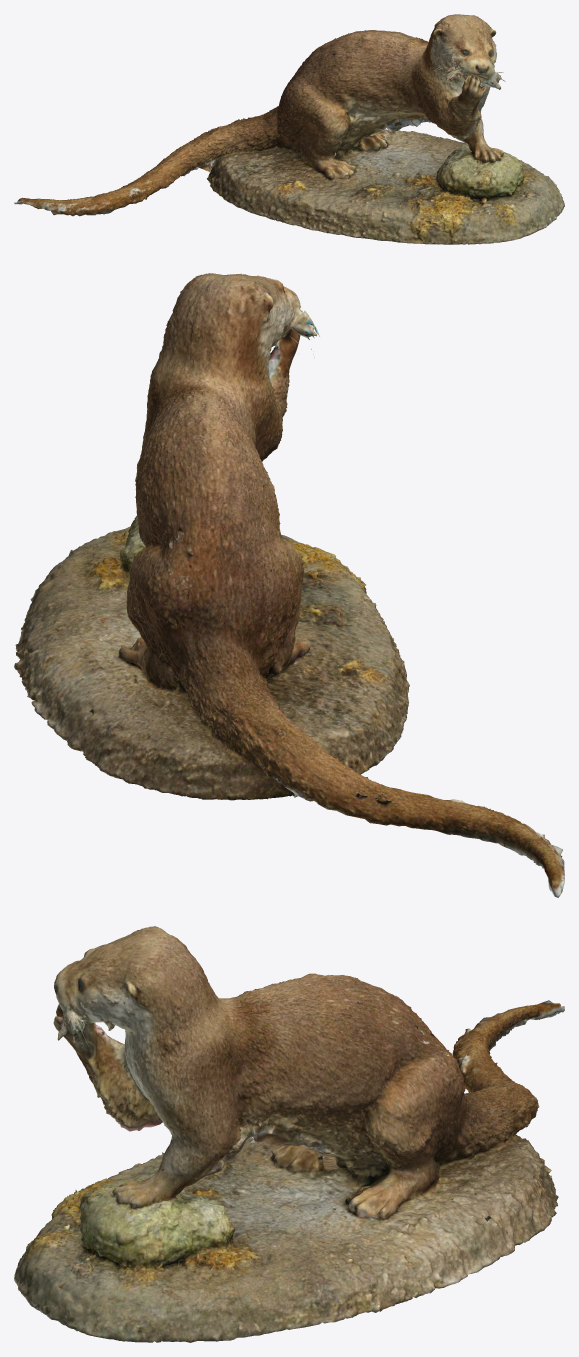
The picture shows the model from 3 angles, top to bottom: view 1: azimuth 30°, elevation 25°; view 2: azimuth 150°, elevation 25°; view 3: azimuth 270°, elevation 25°; orthographic projection. The views are drawn at different scales.
Visible parts, largest first — view 1: NEW; view 2: NEW; view 3: NEW.
Boxes of the visible parts, bbox=[...] form: NEW: bbox=[14, 14, 564, 244]; NEW: bbox=[14, 273, 564, 897]; NEW: bbox=[14, 926, 564, 1342].
Bounding box in the file's own units: 86.23 × 39.67 × 59.23.
1 material, 1 textured.
